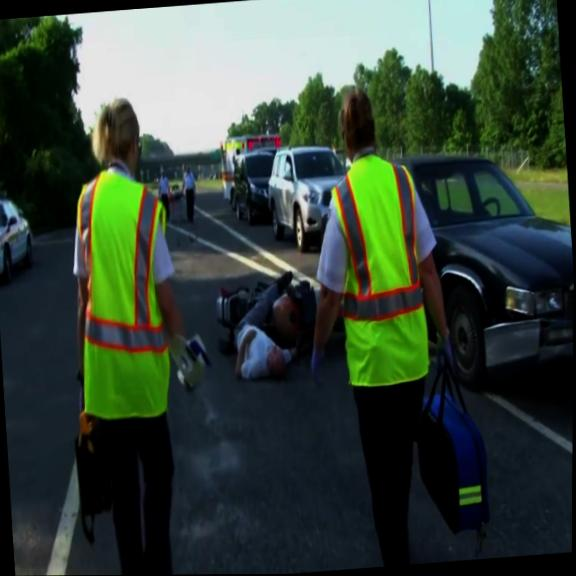safety_vest: (69, 167, 180, 422), (330, 150, 436, 391)
